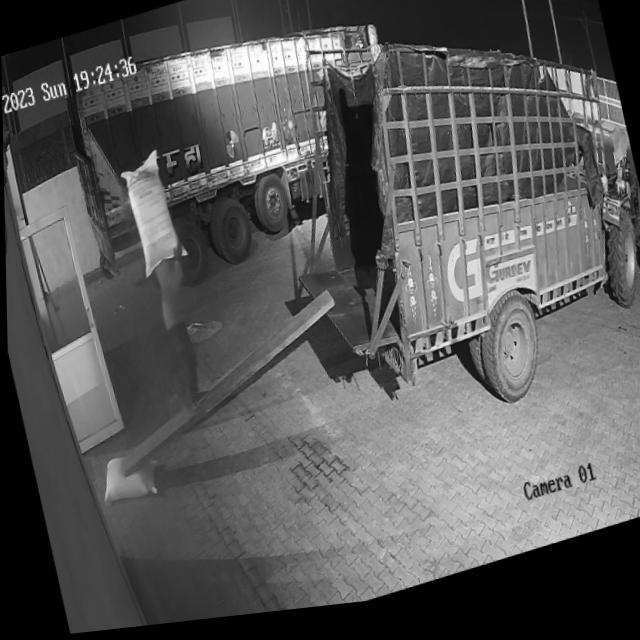sack: (117, 148, 189, 285), (95, 449, 161, 511)
